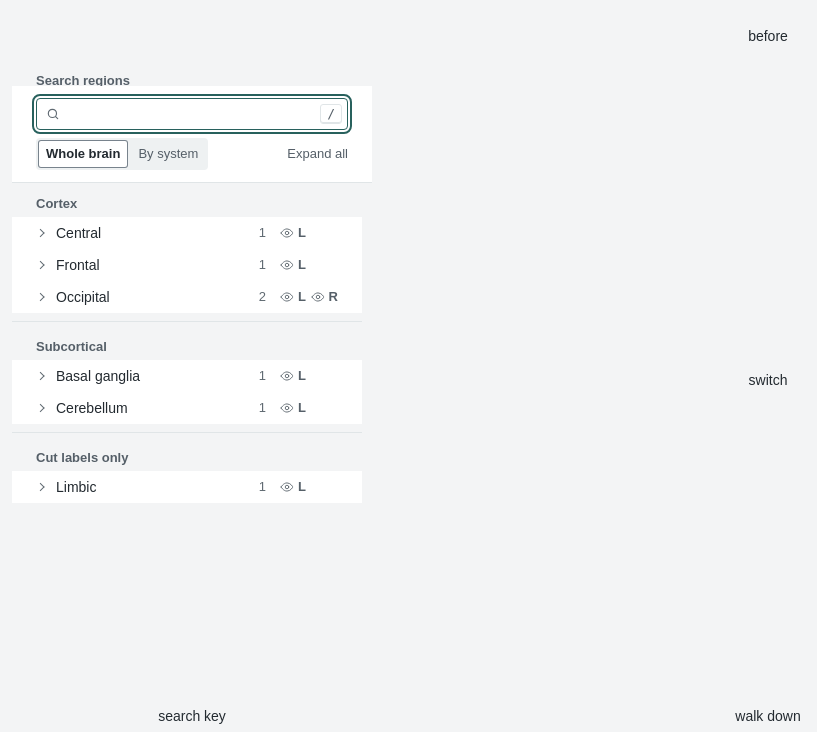
the sentences after the list › matches in another atlas are reported with a button that switches to it, and focus goes back to the field
Type keys "v1"
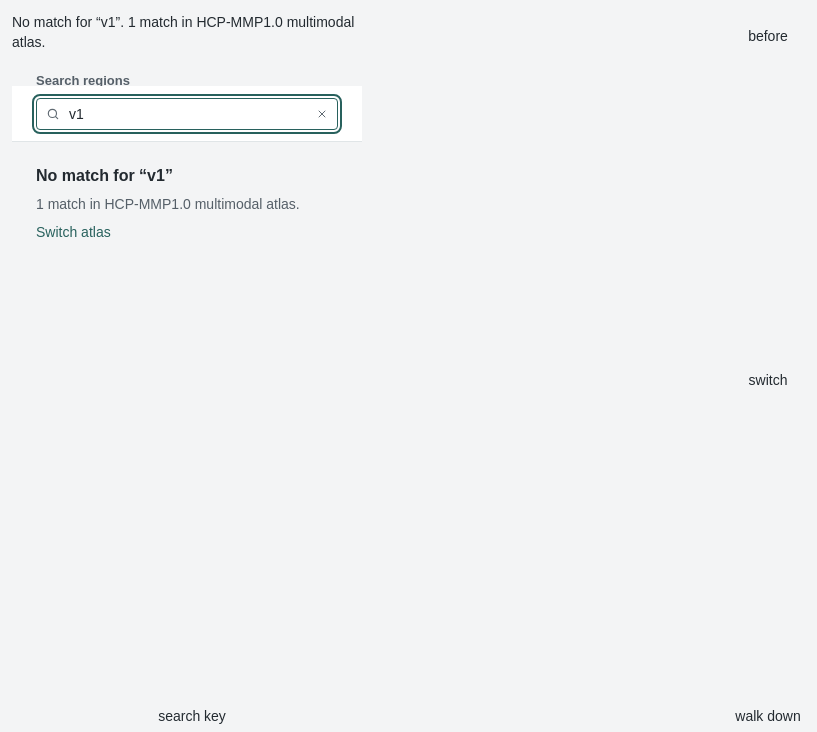
Now the text "No match for “v1”" is shown, box x1=36 y1=167 x2=173 y2=184
Now the text "1 match in HCP-MMP1.0 multimodal atlas." is shown, box x1=36 y1=194 x2=338 y2=214
Now the message with id "announcer" reads "No match for “v1”. 1 match in HCP-MMP1.0 multimodal atlas.", box x1=12 y1=14 x2=354 y2=50
Click the button "Switch atlas": (73, 232) x1=36 y1=222 x2=111 y2=242
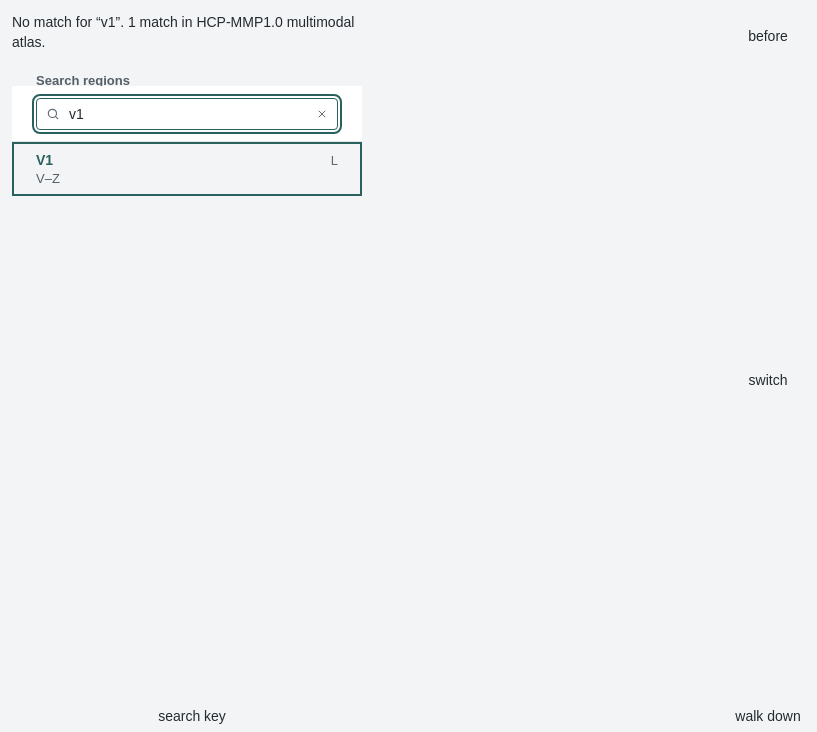
Now the option named "V1, left" is shown, box x1=12 y1=142 x2=362 y2=196
